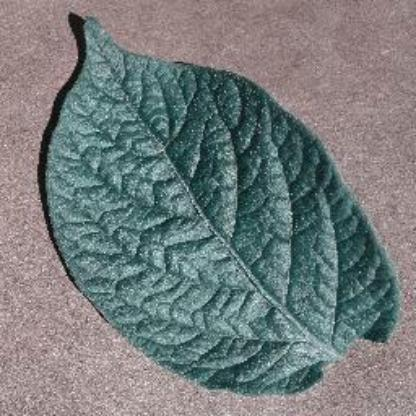Healthy-plant: (32, 21, 398, 395)
